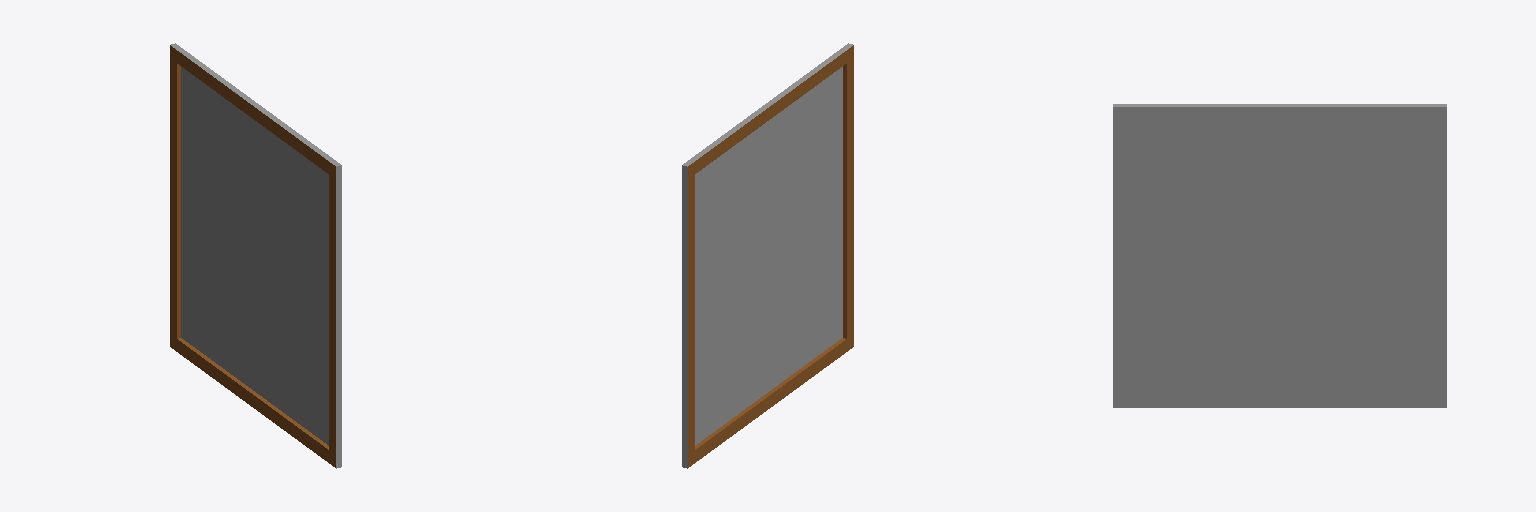
Rendered from canvasBig.obj.
3 renders of one model, left to right at view 1: azimuth 30°, elevation 25°; view 2: azimuth 150°, elevation 25°; view 3: azimuth 270°, elevation 25°, orthographic.
Visible parts, largest first — view 1: Canvas_Cube.001; view 2: Canvas_Cube.001; view 3: Canvas_Cube.001.
Part boxes in pixels (x1,y1,x2,y2): Canvas_Cube.001: (170,43,341,468); Canvas_Cube.001: (682,43,853,468); Canvas_Cube.001: (1113,104,1446,407).
Bounding box in the file's own units: 0.0417 × 2 × 2.